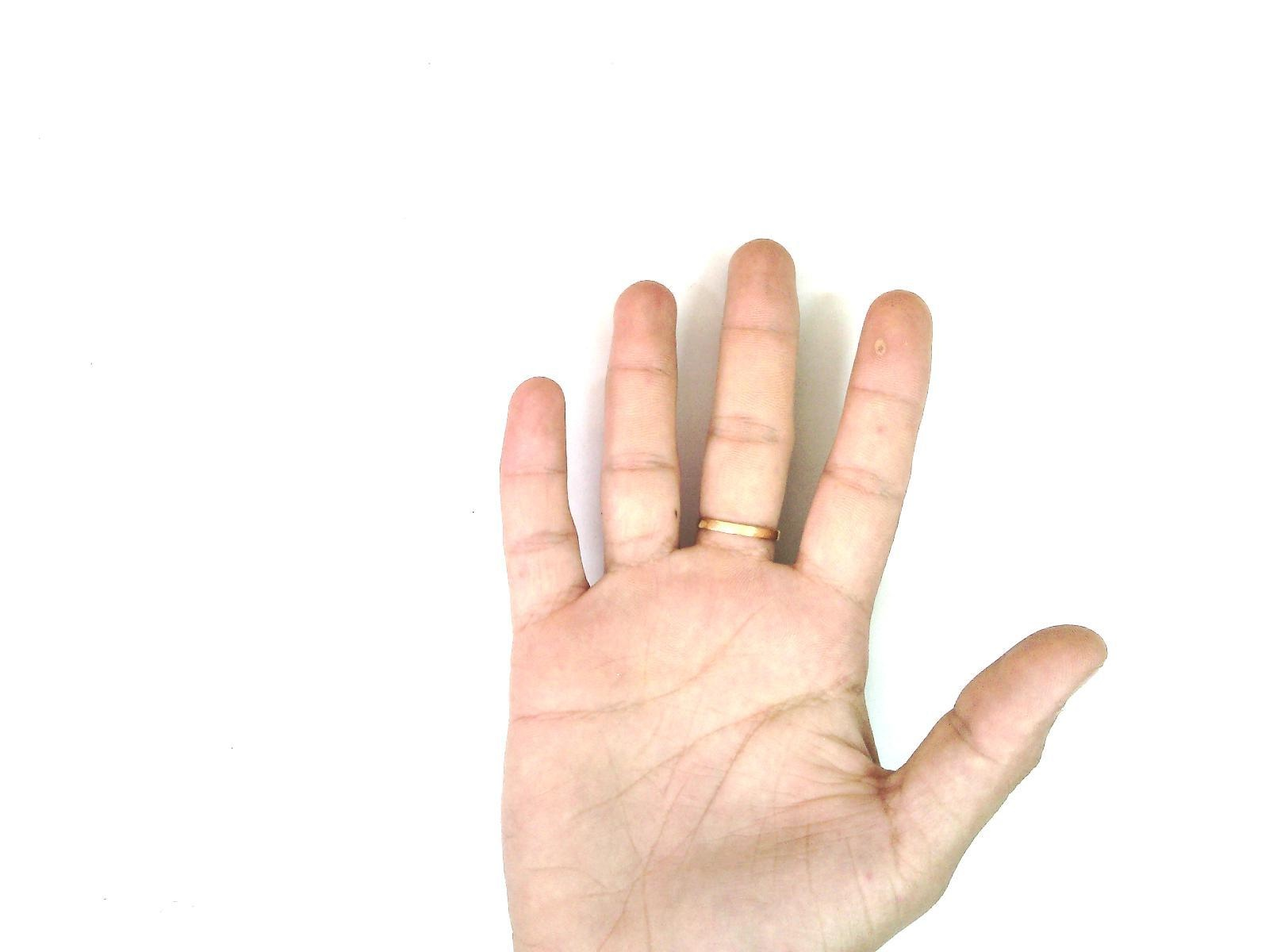open_palm: (493, 238, 1110, 952)
